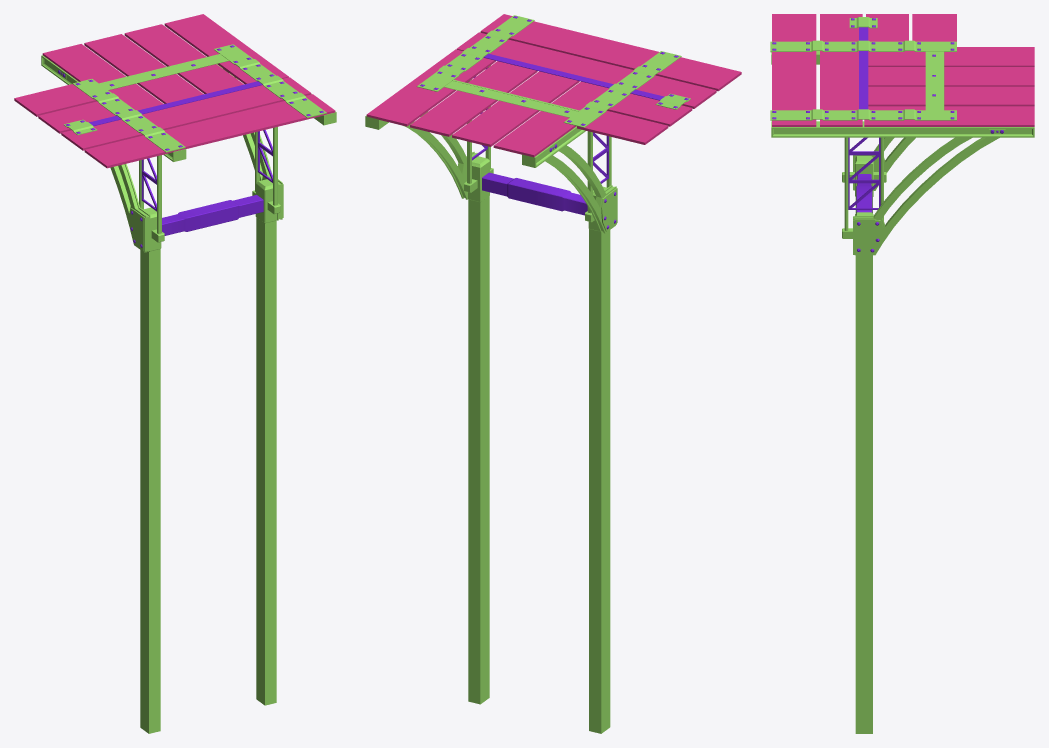
The model's file is Floor_01_Bridge_I_2x1_01_d.fbx.
The picture shows the model from 3 angles, left to right: view 1: azimuth 30°, elevation 25°; view 2: azimuth 150°, elevation 25°; view 3: azimuth 270°, elevation 25°; orthographic projection. The views are drawn at different scales.
Visible parts, largest first — view 1: Cylinder.003; view 2: Cylinder.003; view 3: Cylinder.003.
Part boxes in pixels (x1,y1,x2,y2): Cylinder.003: (14,14,336,733); Cylinder.003: (365,14,741,733); Cylinder.003: (770,14,1034,733).
Bounding box in the file's own units: 155 × 401 × 155.
